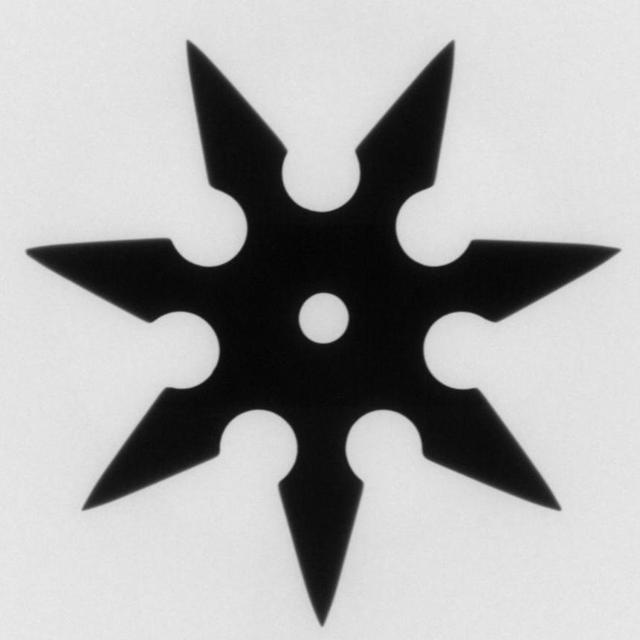shuriken: (26, 33, 629, 628)
